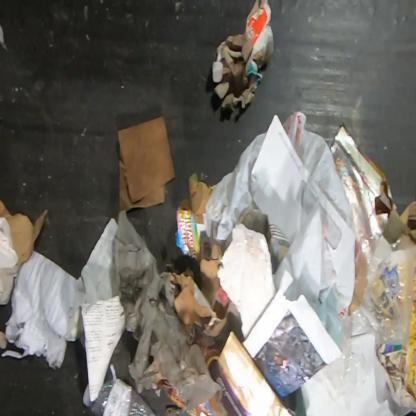cardboard: (165, 244, 246, 362), (211, 0, 274, 111), (0, 198, 49, 272), (177, 173, 215, 224)
rigid_plastic: (82, 378, 156, 416)
soft_plastic: (112, 209, 223, 410), (324, 233, 415, 396), (282, 111, 355, 237), (203, 132, 268, 241), (318, 244, 355, 315), (0, 217, 20, 305)
